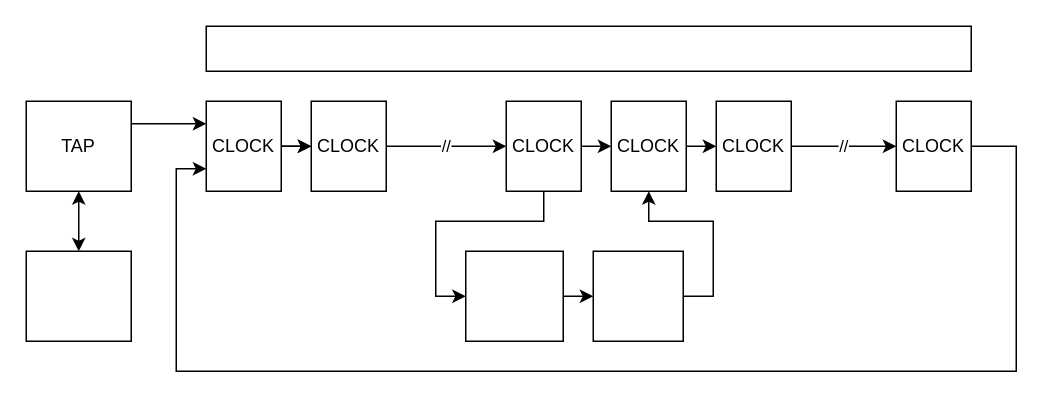
Image size: 1055x410. Some labels were removed from this diagram. The centre of each missing label's shape, as x and y in pixels:
ONSET ADC: (x=588, y=48)
SLEEP: (x=78, y=295)
SYNC: (x=513, y=295)
TEMPO: (x=637, y=295)
